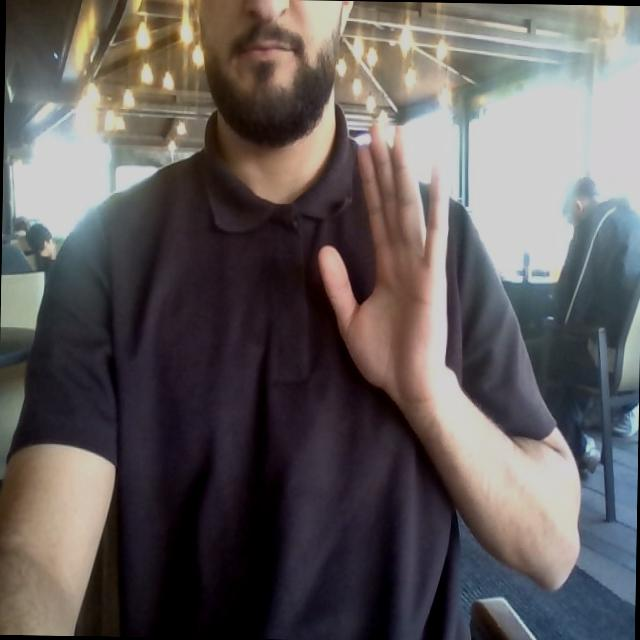Hand: (319, 125, 448, 404)
